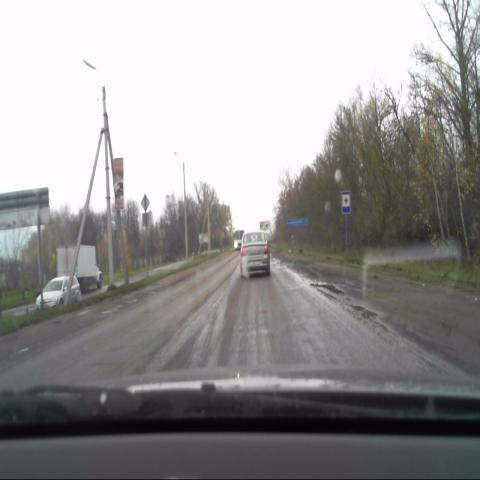7_1: (341, 190, 351, 215)
